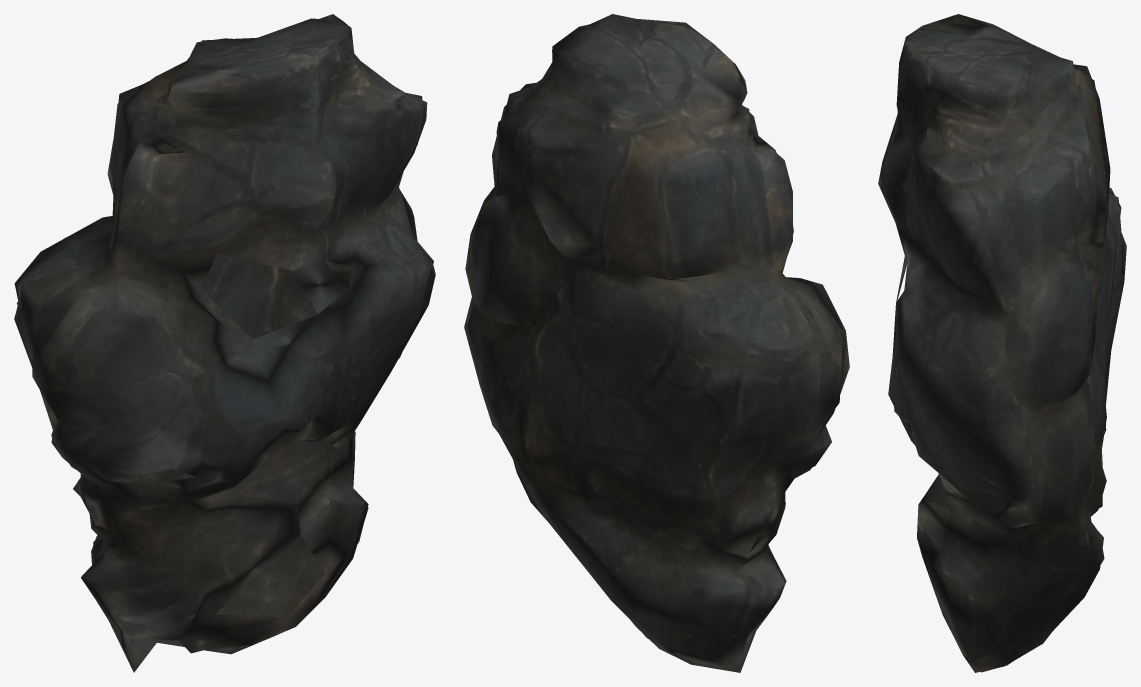
The model's file is desert-rock-2.glb.
3 renders of one model, left to right at view 1: azimuth 30°, elevation 25°; view 2: azimuth 150°, elevation 25°; view 3: azimuth 270°, elevation 25°, orthographic. The views are drawn at different scales.
Visible parts, largest first — view 1: geometry_0; view 2: geometry_0; view 3: geometry_0.
Part boxes in pixels (left/top/right/bottom): geometry_0: left=14, top=14, right=435, bottom=672; geometry_0: left=464, top=14, right=849, bottom=672; geometry_0: left=878, top=14, right=1126, bottom=672.
Bounding box in the file's own units: 0.6409 × 0.9659 × 0.3353.
Materials: 1 (1 with a texture image).
